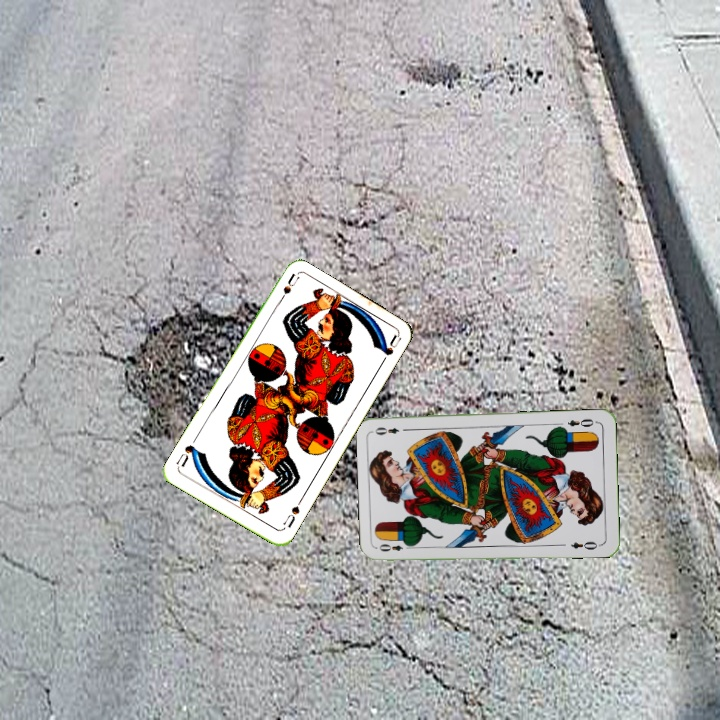EO: (375, 539, 415, 554), (564, 414, 600, 430)
SU: (272, 271, 301, 309), (279, 495, 305, 531)
